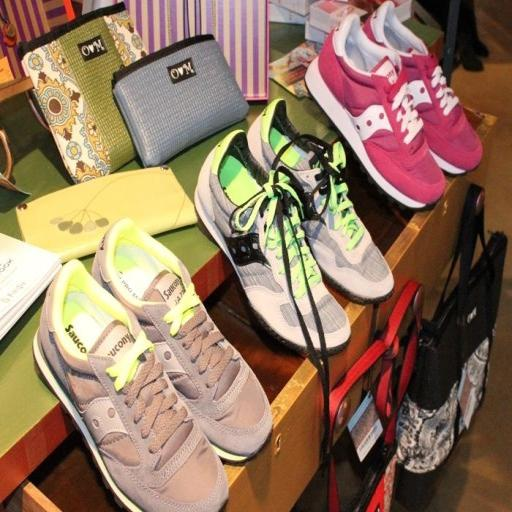shoe: (33, 260, 228, 512), (92, 218, 273, 463), (194, 130, 350, 354), (247, 99, 394, 303), (305, 14, 445, 210), (364, 0, 482, 175)
